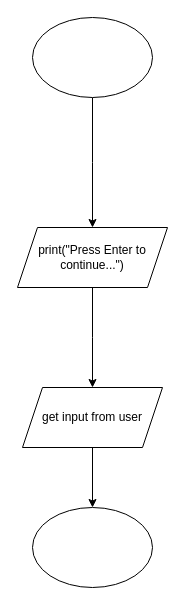
Image size: 185x605. Some labels were removed from this diagram. Here are the shapes that lost their labels. From the top down, the centre of each, then its label:
At pixel 92 57: "Start".
At pixel 92 547: "End".
